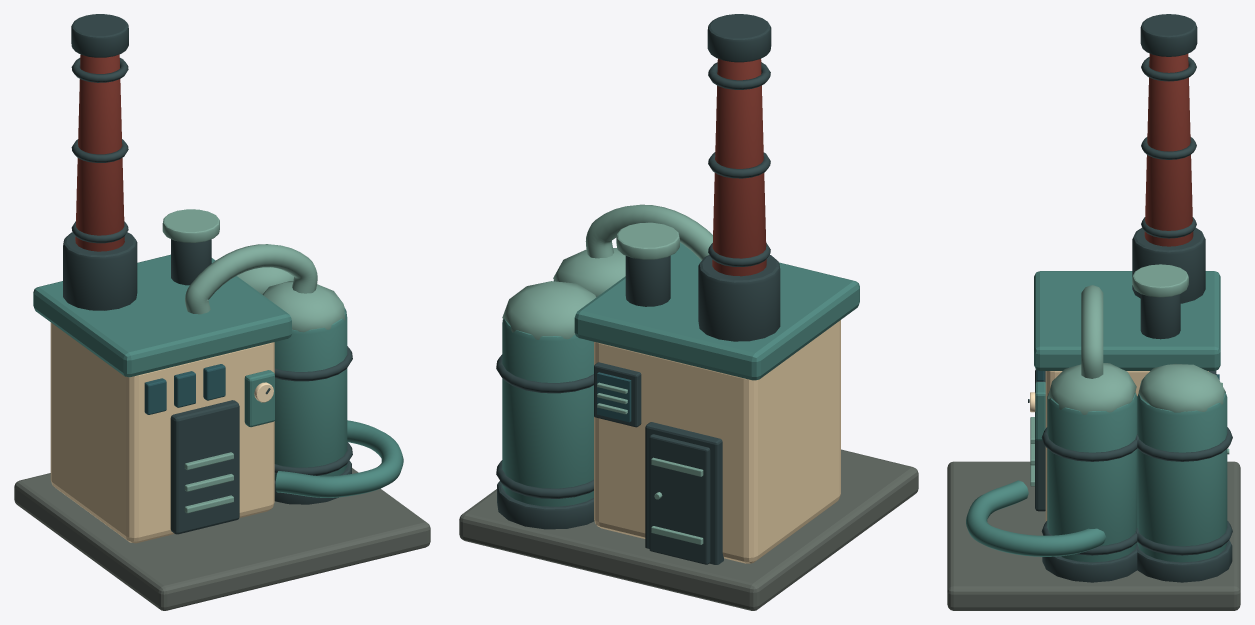
Rendered from generator.glb.
3 renders of one model, left to right at view 1: azimuth 30°, elevation 25°; view 2: azimuth 150°, elevation 25°; view 3: azimuth 270°, elevation 25°, orthographic. The views are drawn at different scales.
Visible parts, largest first — view 1: generator · copper, generator · plaster, generator · stone_dark, generator · metal, generator · copper_light, generator · tile_dark, generator · window; view 2: generator · plaster, generator · copper, generator · metal, generator · stone_dark, generator · copper_light, generator · tile_dark, generator · window; view 3: generator · copper, generator · stone_dark, generator · metal, generator · copper_light, generator · tile_dark, generator · plaster.
Part boxes in pixels (<box>): generator · copper: <box>33,254,403,497</box>; generator · plaster: <box>50,322,274,543</box>; generator · stone_dark: <box>14,468,430,610</box>; generator · metal: <box>63,14,352,534</box>; generator · copper_light: <box>162,209,345,513</box>; generator · tile_dark: <box>75,54,124,251</box>; generator · window: <box>144,364,225,414</box>; generator · plaster: <box>594,320,840,563</box>; generator · copper: <box>502,242,859,506</box>; generator · metal: <box>496,14,780,564</box>; generator · stone_dark: <box>459,449,918,610</box>; generator · copper_light: <box>502,204,712,544</box>; generator · tile_dark: <box>712,58,766,276</box>; generator · window: <box>597,372,631,422</box>; generator · copper: <box>966,271,1227,562</box>; generator · stone_dark: <box>947,461,1240,610</box>; generator · metal: <box>1028,14,1232,582</box>; generator · copper_light: <box>1030,264,1229,486</box>; generator · tile_dark: <box>1144,53,1193,246</box>; generator · plaster: <box>1045,371,1208,521</box>.
Size of the model in its own units: 0.9499 by 1.6 by 0.88.
